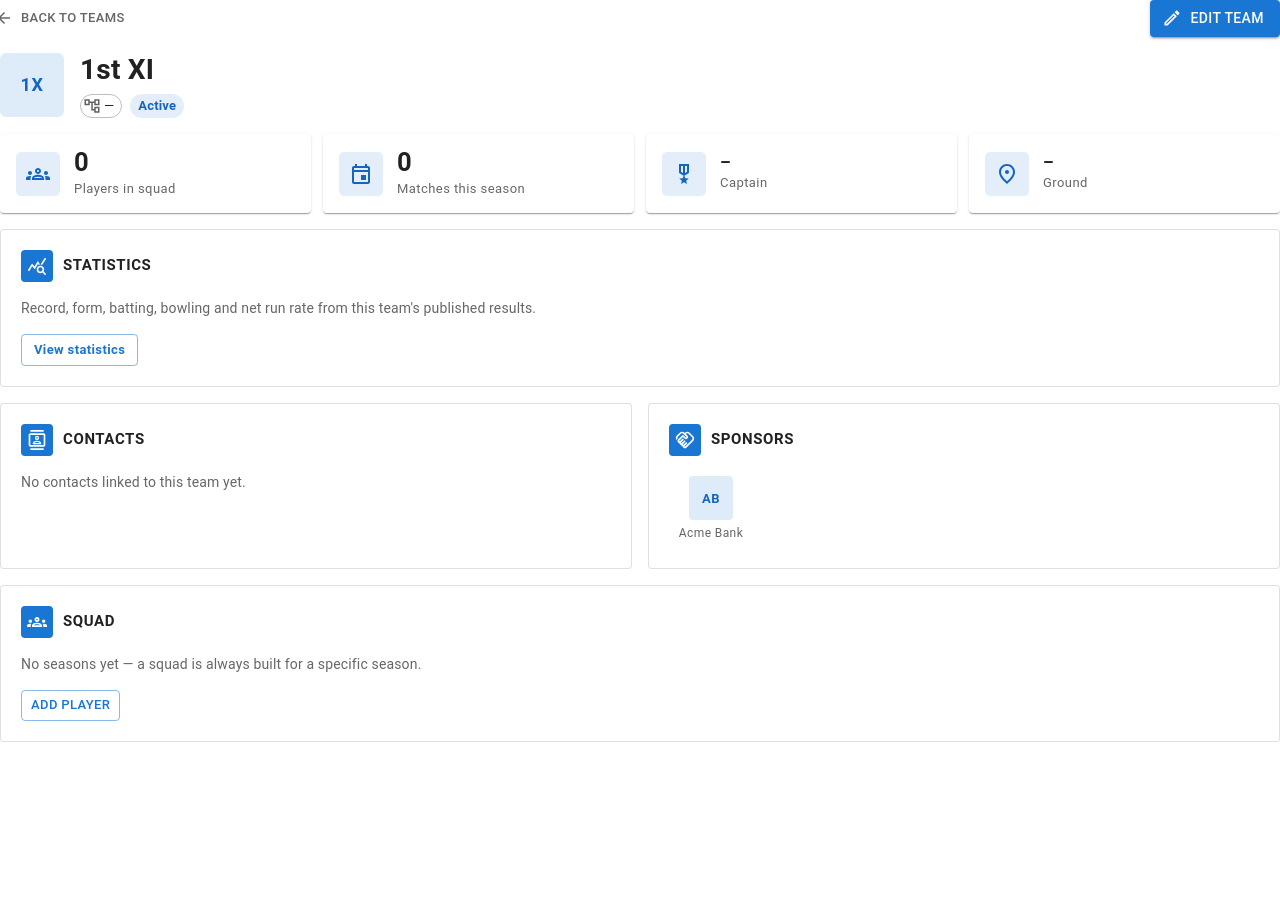
it: TeamDetailPage › shows no "Sponsor Contacts" field when the sponsor has none
The width and height of the screenshot is (1280, 900).
Check: the heading "1st XI" is shown, box [80, 52, 154, 86]
Click the button with aria-label "Acme Bank — Sponsor" at (711, 510), box [669, 472, 753, 548]
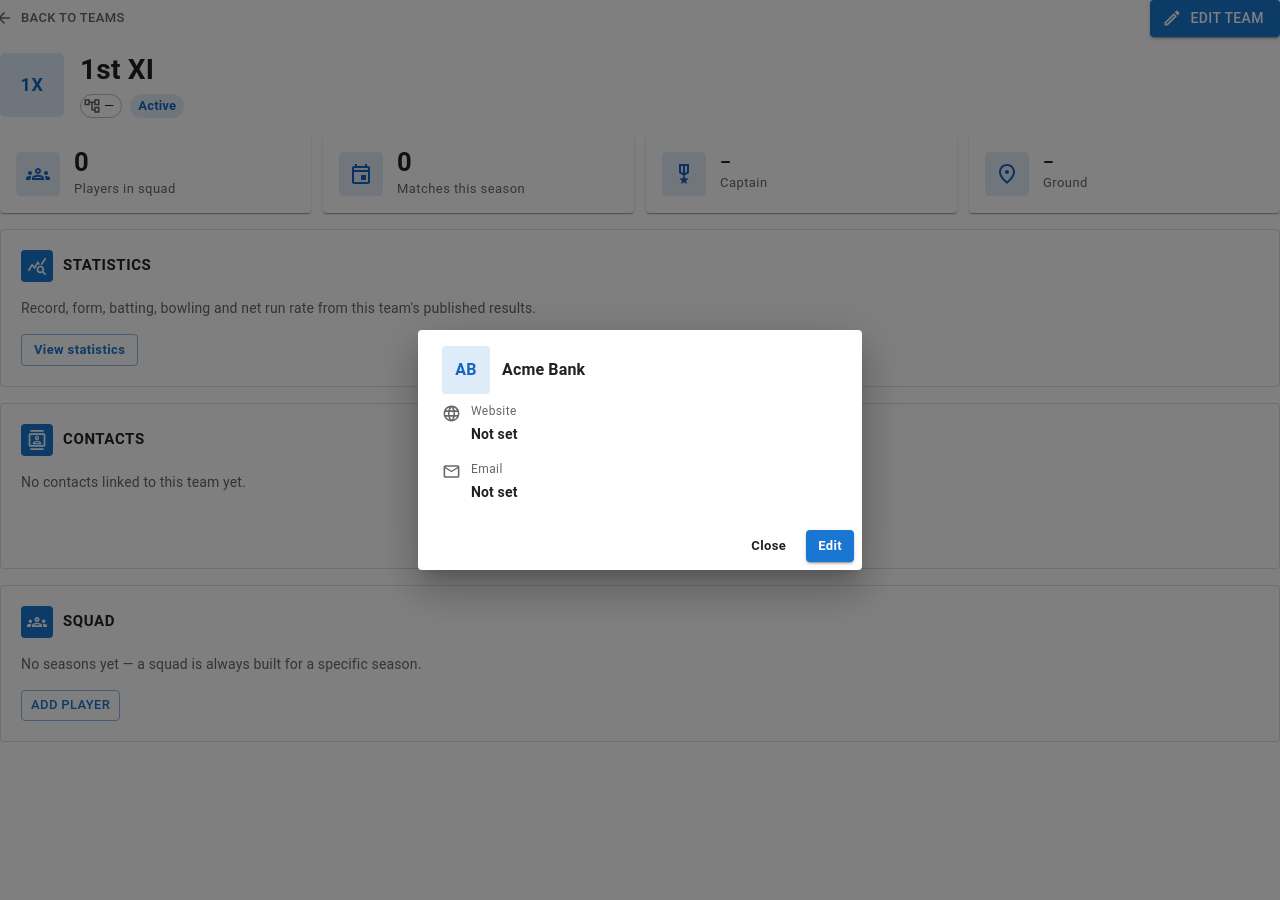
Check: the dialog is shown, box [418, 330, 862, 570]
